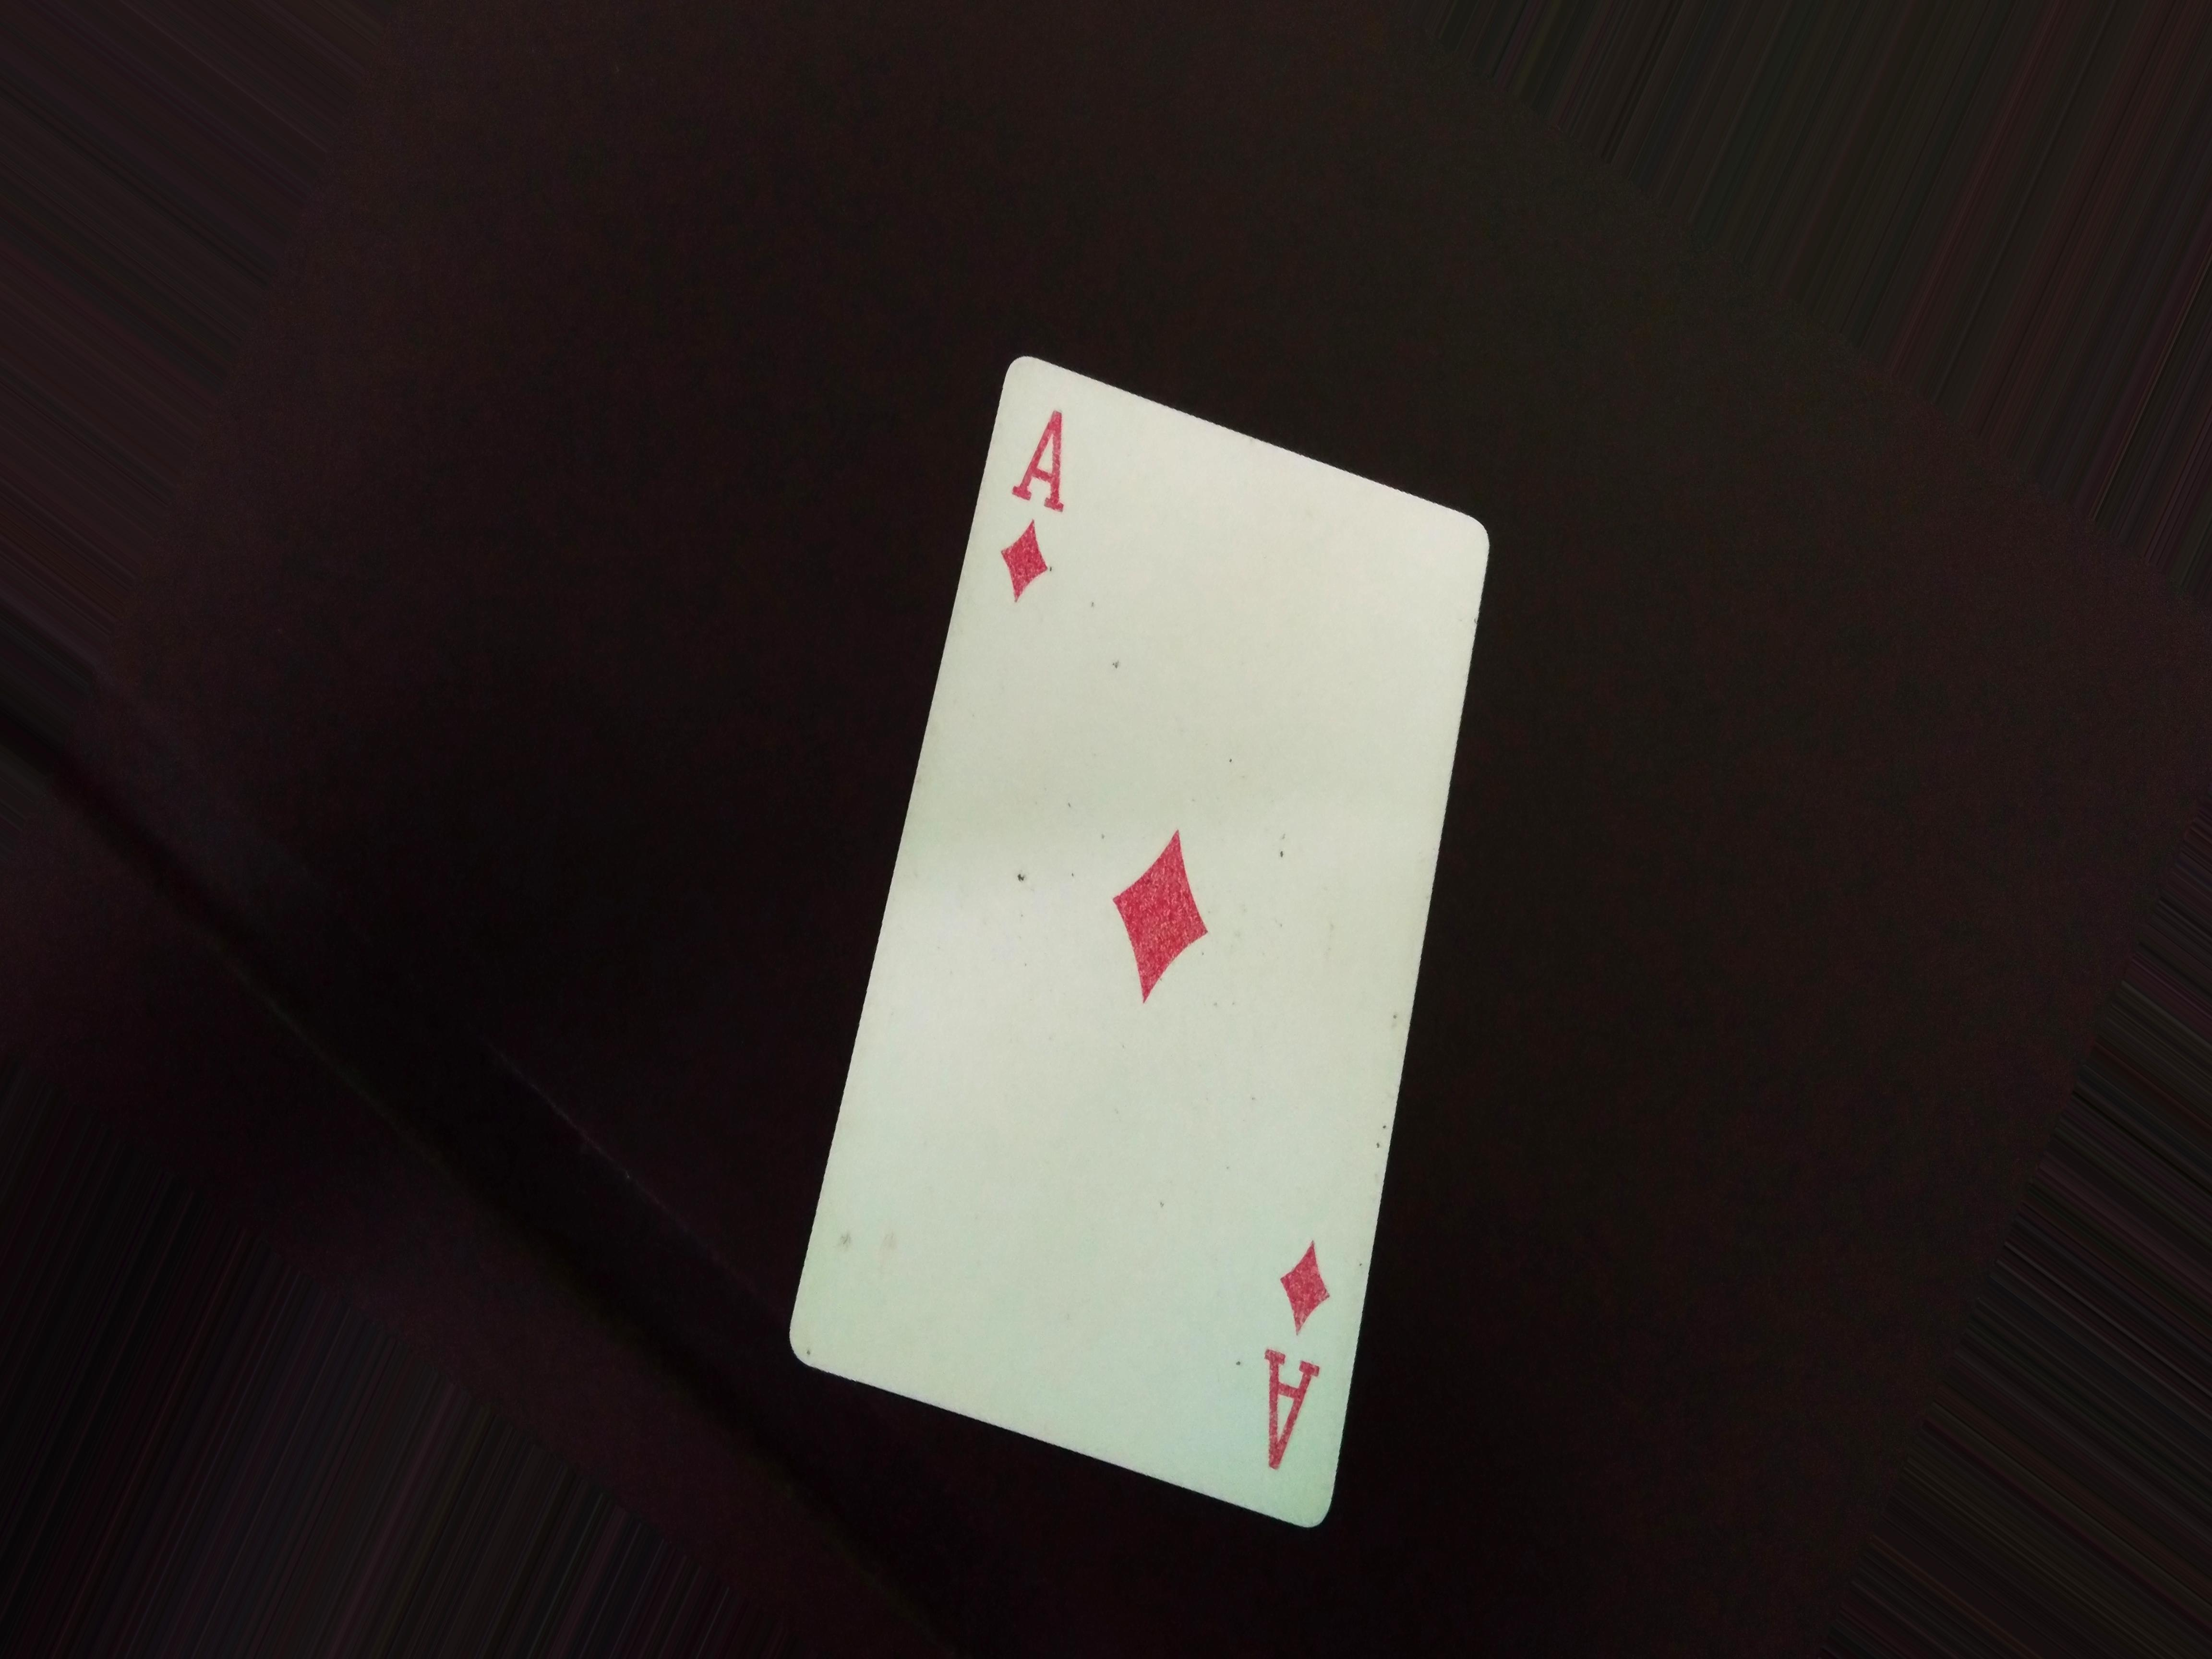AD: (991, 389, 1109, 619)
